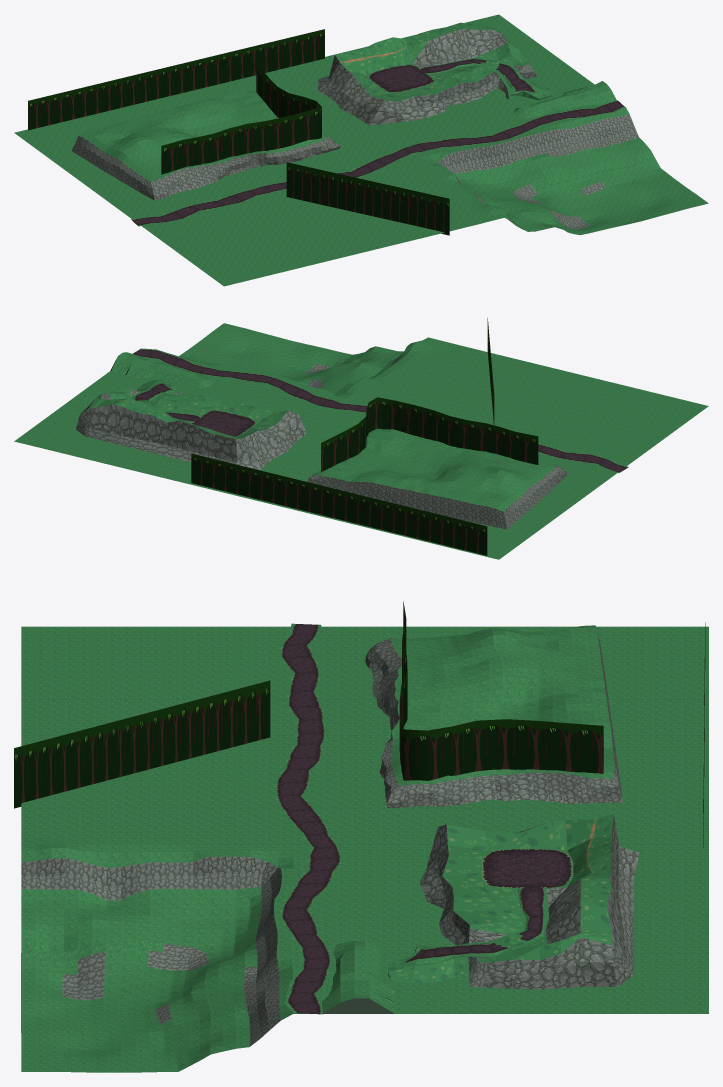
The model's file is woods2.fbx.
3 renders of one model, top to bottom at view 1: azimuth 30°, elevation 25°; view 2: azimuth 150°, elevation 25°; view 3: azimuth 270°, elevation 25°, orthographic. The views are drawn at different scales.
Parts seen in each view (by area): view 1: Plane, Cube, Plane.002, Aga.003, Aga.001, Aga, Plane.001; view 2: Plane, Plane.002, Cube, Aga.003, Aga.001, Plane.001; view 3: Plane, Cube, Plane.002, Aga, Plane.001, Aga.001.
Part boxes in pixels (box(x1,y1,x2,y2)): Plane: box(14, 14, 708, 286); Cube: box(318, 22, 554, 125); Plane.002: box(71, 91, 340, 200); Aga.003: box(28, 29, 324, 130); Aga.001: box(161, 63, 321, 174); Aga: box(286, 162, 449, 235); Plane.001: box(131, 100, 624, 226); Plane: box(14, 323, 708, 559); Plane.002: box(307, 428, 567, 529); Cube: box(76, 379, 306, 469); Aga.003: box(191, 453, 487, 555); Aga.001: box(321, 397, 538, 471); Plane.001: box(132, 348, 628, 473); Plane: box(21, 626, 708, 1072); Cube: box(388, 813, 639, 989); Plane.002: box(365, 625, 622, 808); Aga: box(14, 680, 270, 808); Plane.001: box(273, 623, 343, 1014); Aga.001: box(399, 601, 603, 780).
Size of the model in its own units: 9677 by 1603 by 7276.
Materials: 2 (2 with a texture image).
